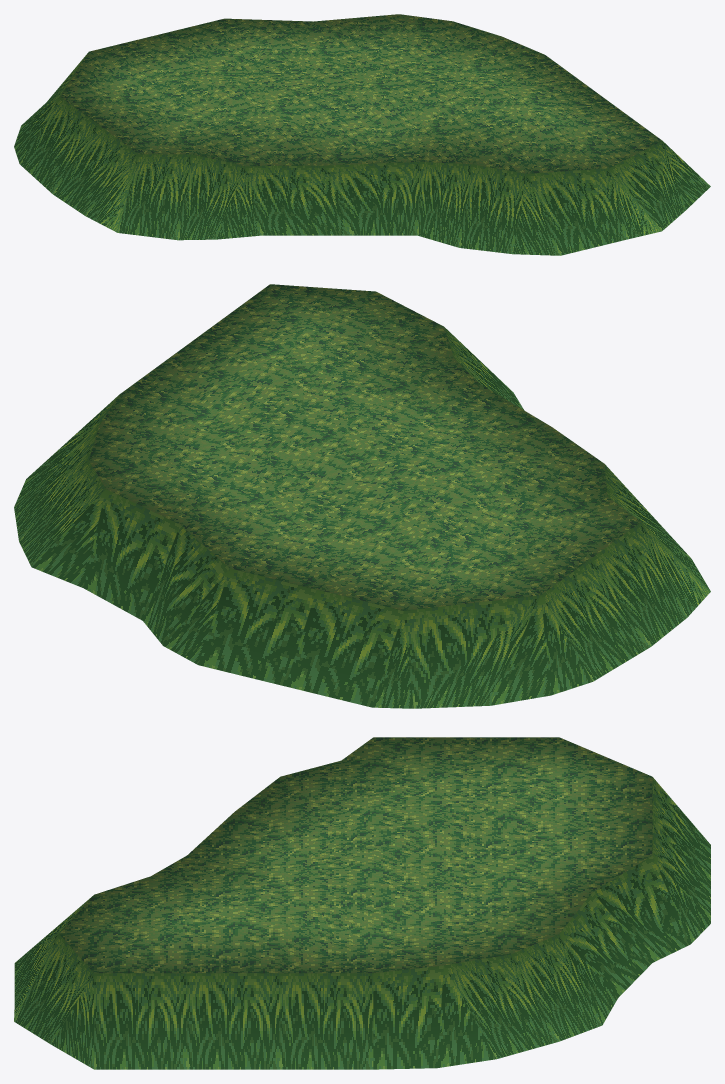
File: grass.glb
The picture shows the model from 3 angles, top to bottom: view 1: azimuth 30°, elevation 25°; view 2: azimuth 150°, elevation 25°; view 3: azimuth 270°, elevation 25°; orthographic projection. The views are drawn at different scales.
Parts seen in each view (by area): view 1: Plane; view 2: Plane; view 3: Plane.
Boxes of the visible parts, bbox=[...] form: Plane: bbox=[14, 14, 710, 255]; Plane: bbox=[14, 284, 710, 708]; Plane: bbox=[14, 737, 710, 1069].
Bounding box in the file's own units: 11 × 1.41 × 11.14.
2 materials, 2 textured.
